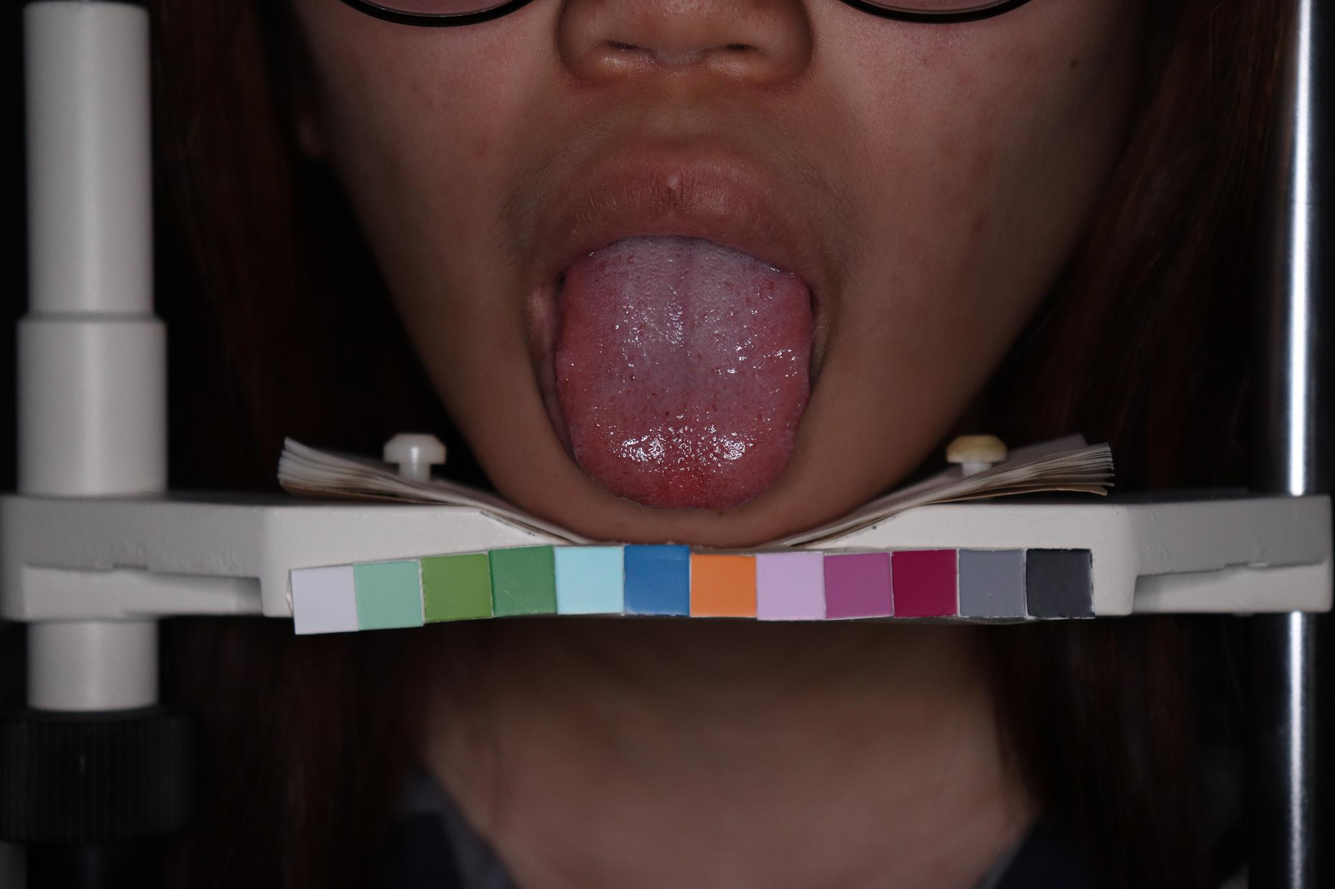baitaishe: (554, 234, 815, 509)
hongdianshe: (661, 408, 671, 419), (593, 419, 603, 429), (696, 350, 703, 362), (627, 373, 636, 382), (755, 411, 763, 421), (711, 404, 719, 412), (639, 324, 646, 332)
hongshe: (554, 234, 815, 509)
